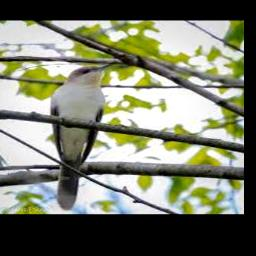Cuckoo: (52, 64, 114, 210)
